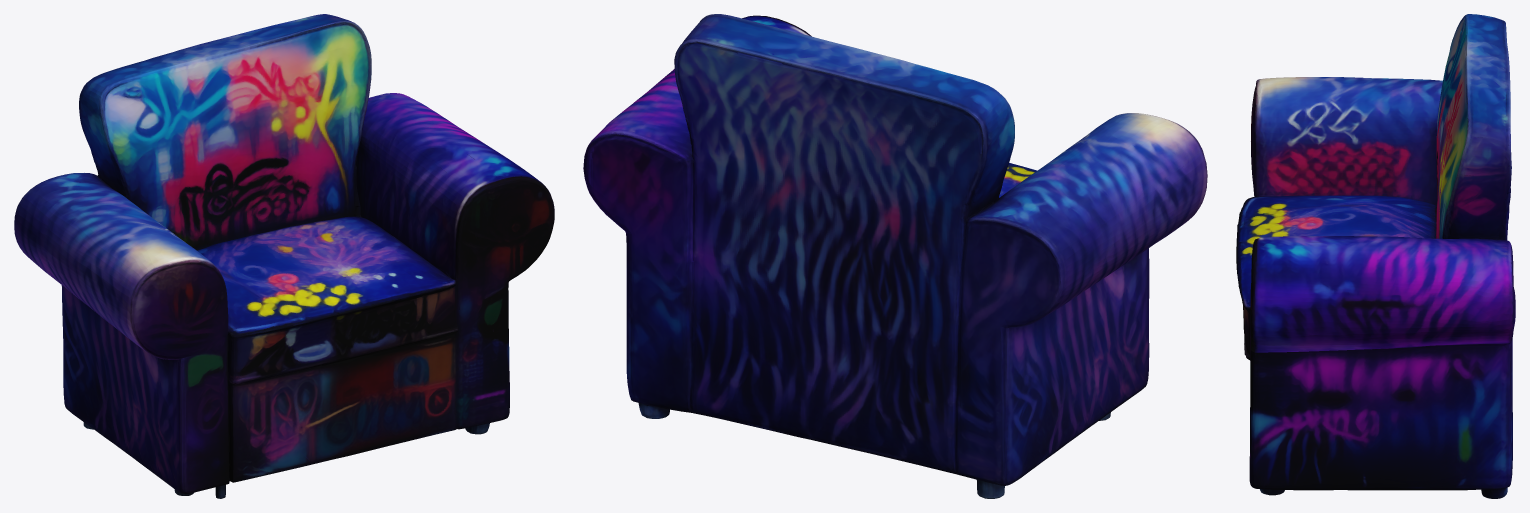
The model's file is poltrona-3d.glb.
3 renders of one model, left to right at view 1: azimuth 30°, elevation 25°; view 2: azimuth 150°, elevation 25°; view 3: azimuth 270°, elevation 25°, orthographic. The views are drawn at different scales.
Visible parts, largest first — view 1: world; view 2: world; view 3: world.
Boxes of the visible parts, left/top/right/bottom form: world: left=14, top=14, right=554, bottom=498; world: left=583, top=14, right=1207, bottom=498; world: left=1236, top=14, right=1515, bottom=498.
Size of the model in its own units: 0.9993 by 0.7967 by 0.5666.
Materials: 1 (1 with a texture image).
